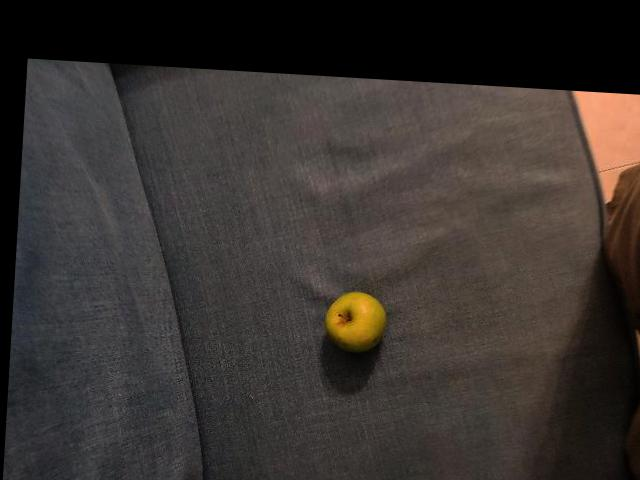apple: (315, 276, 411, 356)
